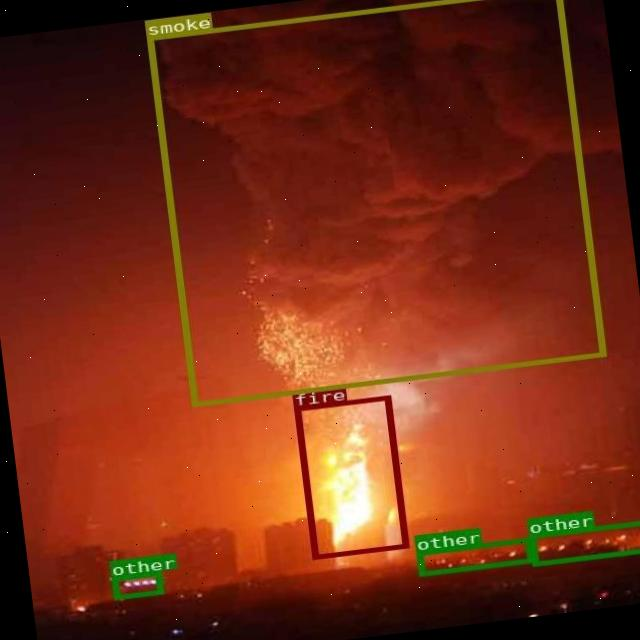fire: (292, 394, 407, 558)
smoke: (145, 0, 604, 405)
